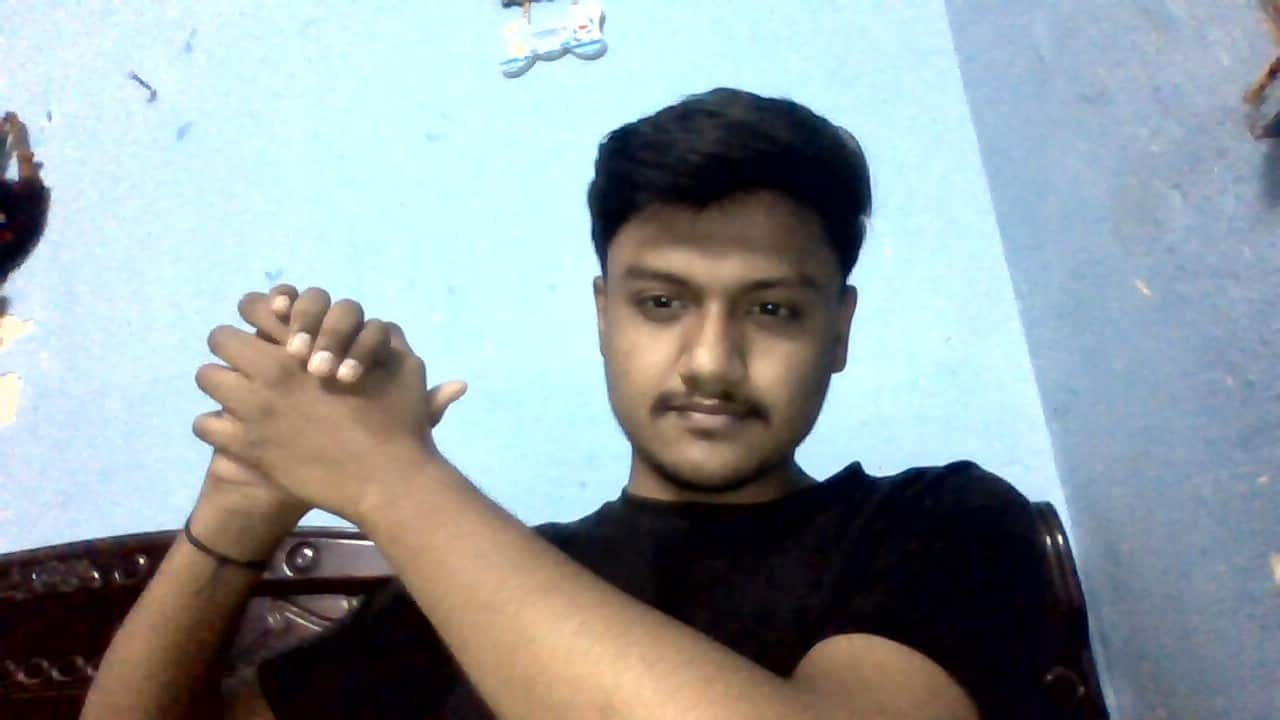hand: (190, 286, 474, 525)
